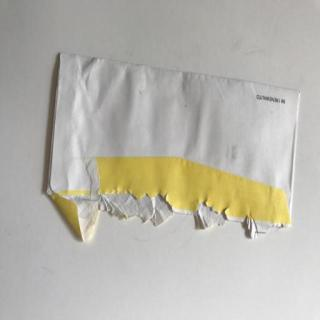Anorganik: (44, 51, 306, 253)
